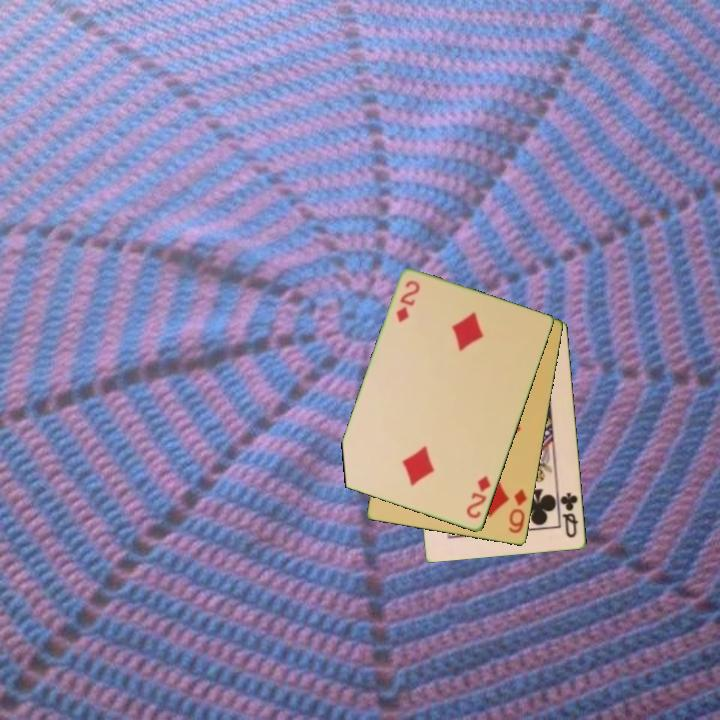2d: (463, 473, 494, 522), (393, 277, 423, 326)
6d: (505, 486, 530, 537)
Qc: (555, 488, 581, 541)
